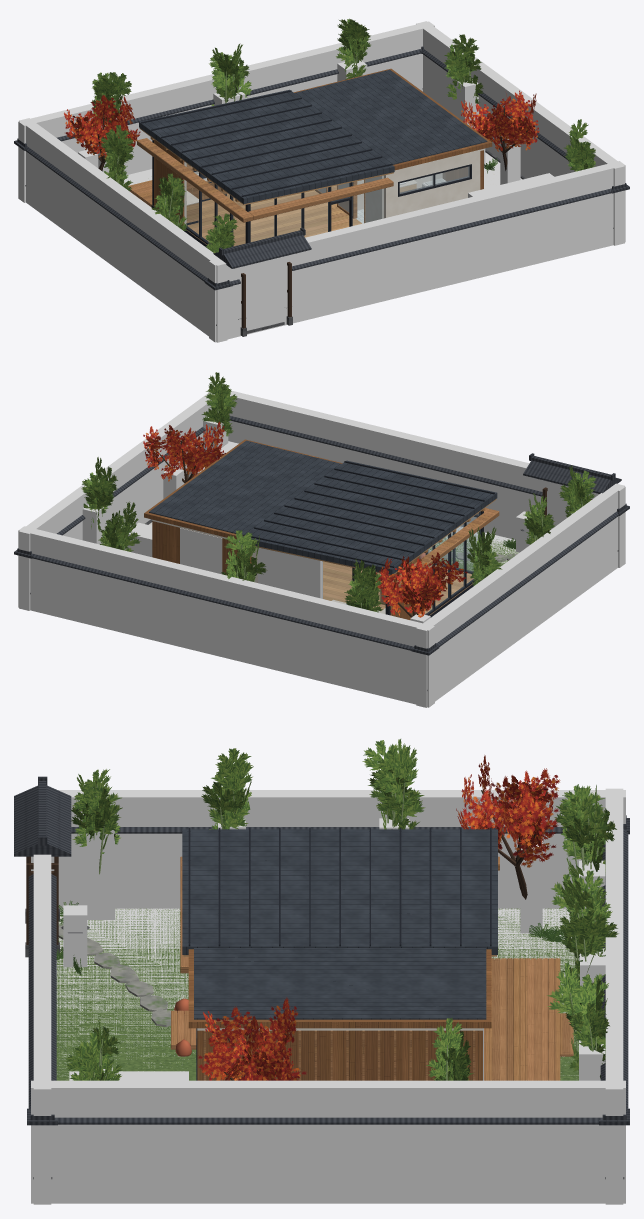
File: glass_modern_house.glb
3 views of the same model, one above another, from view 1: azimuth 30°, elevation 25°; view 2: azimuth 150°, elevation 25°; view 3: azimuth 270°, elevation 25° (orthographic). The views are drawn at different scales.
Parts seen in each view (by area): view 1: Col_Courtyard_S, Col_Courtyard_W, JP_Alpha_Foliage_Cards, Roof_Main_Slate, Col_Courtyard_N, Roof_East_TopSlate, JP_Courtyard_Walls_And_Gate, Col_Courtyard_E, Roof_StandingSeams, Floor_MainRoom_Kitchen, Glass_South_L, Wall_South_Bath_Low (+14 smaller); view 2: Col_Courtyard_N, JP_Alpha_Foliage_Cards, Col_Courtyard_W, Roof_Main_Slate, Col_Courtyard_S, Roof_East_TopSlate, JP_Courtyard_Walls_And_Gate, Col_Courtyard_E, Roof_StandingSeams, Col_MainSlide_Glass, Floor_MainRoom_Kitchen, Col_BedSlide_Glass (+10 smaller); view 3: Col_Courtyard_E, Roof_Main_Slate, JP_Alpha_Foliage_Cards, Col_Courtyard_W, Roof_East_TopSlate, JP_Zen_Garden_And_Lanterns, JP_Courtyard_Walls_And_Gate, Col_Floor_Yard, Yard_Deck_North, Wall_Ext_East, Col_Courtyard_N, Col_Courtyard_S (+11 smaller).
Part boxes in pixels (left/top/right/bottom): Col_Courtyard_S: left=209, top=161, right=625, bottom=342; Col_Courtyard_W: left=19, top=118, right=227, bottom=342; JP_Alpha_Foliage_Cards: left=64, top=18, right=595, bottom=253; Roof_Main_Slate: left=139, top=89, right=394, bottom=203; Col_Courtyard_N: left=18, top=21, right=434, bottom=202; Roof_East_TopSlate: left=294, top=69, right=487, bottom=164; JP_Courtyard_Walls_And_Gate: left=14, top=46, right=629, bottom=336; Col_Courtyard_E: left=416, top=21, right=624, bottom=245; Roof_StandingSeams: left=141, top=90, right=392, bottom=196; Floor_MainRoom_Kitchen: left=152, top=190, right=361, bottom=246; Glass_South_L: left=251, top=188, right=328, bottom=241; Wall_South_Bath_Low: left=383, top=177, right=480, bottom=218; Col_Courtyard_N: left=18, top=526, right=434, bottom=707; JP_Alpha_Foliage_Cards: left=81, top=372, right=596, bottom=617; Col_Courtyard_W: left=416, top=483, right=624, bottom=707; Roof_Main_Slate: left=243, top=460, right=497, bottom=574; Col_Courtyard_S: left=228, top=390, right=625, bottom=567; Roof_East_TopSlate: left=149, top=440, right=341, bottom=535; JP_Courtyard_Walls_And_Gate: left=14, top=415, right=629, bottom=690; Col_Courtyard_E: left=19, top=392, right=214, bottom=610; Roof_StandingSeams: left=244, top=461, right=494, bottom=567; Col_MainSlide_Glass: left=258, top=548, right=322, bottom=598; Floor_MainRoom_Kitchen: left=323, top=561, right=477, bottom=615; Col_BedSlide_Glass: left=180, top=528, right=222, bottom=574; Col_Courtyard_E: left=31, top=1080, right=625, bottom=1203; Roof_Main_Slate: left=182, top=829, right=497, bottom=954; JP_Alpha_Foliage_Cards: left=56, top=739, right=618, bottom=1080; Col_Courtyard_W: left=31, top=790, right=625, bottom=908; Roof_East_TopSlate: left=194, top=948, right=486, bottom=1019; JP_Zen_Garden_And_Lanterns: left=56, top=908, right=578, bottom=1080; JP_Courtyard_Walls_And_Gate: left=14, top=776, right=629, bottom=1179; Col_Floor_Yard: left=56, top=908, right=578, bottom=1076; Yard_Deck_North: left=484, top=958, right=573, bottom=1080; Wall_Ext_East: left=197, top=1030, right=482, bottom=1080; Col_Courtyard_N: left=605, top=788, right=623, bottom=1204; Col_Courtyard_S: left=33, top=854, right=51, bottom=1204.
Size of what is drawn, in the model's own units: 18.6 by 5.4 by 15.94.
36 materials, 21 textured.
